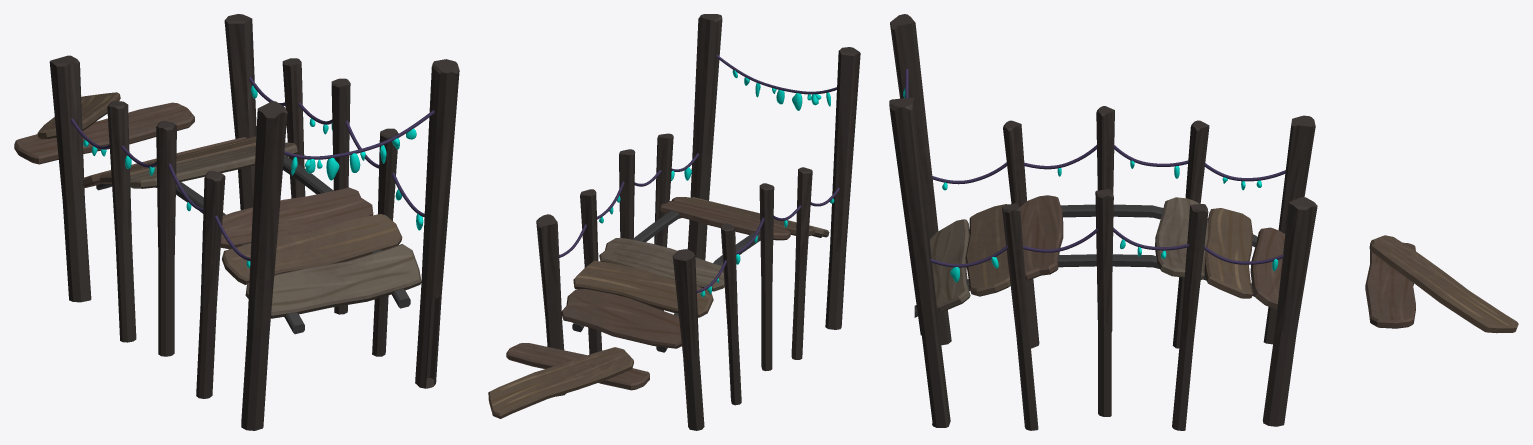
The model's file is Broken_Bridge.fbx.
3 views of the same model, side by side, from view 1: azimuth 30°, elevation 25°; view 2: azimuth 150°, elevation 25°; view 3: azimuth 270°, elevation 25° (orthographic). The views are drawn at different scales.
Visible parts, largest first — view 1: bridge_broken, planks1, glow_rocks_bridge_broken; view 2: bridge_broken, planks1, glow_rocks_bridge_broken; view 3: bridge_broken, planks1, glow_rocks_bridge_broken.
Part boxes in pixels (x1,y1,x2,y2): bridge_broken: [49, 14, 459, 430]; planks1: [14, 92, 194, 164]; glow_rocks_bridge_broken: [83, 84, 423, 267]; bridge_broken: [536, 14, 860, 430]; planks1: [488, 343, 649, 418]; glow_rocks_bridge_broken: [599, 70, 834, 296]; bridge_broken: [889, 14, 1317, 430]; planks1: [1365, 235, 1518, 333]; glow_rocks_bridge_broken: [903, 87, 1278, 282].
Size of the model in its own units: 203 by 331 by 576.
